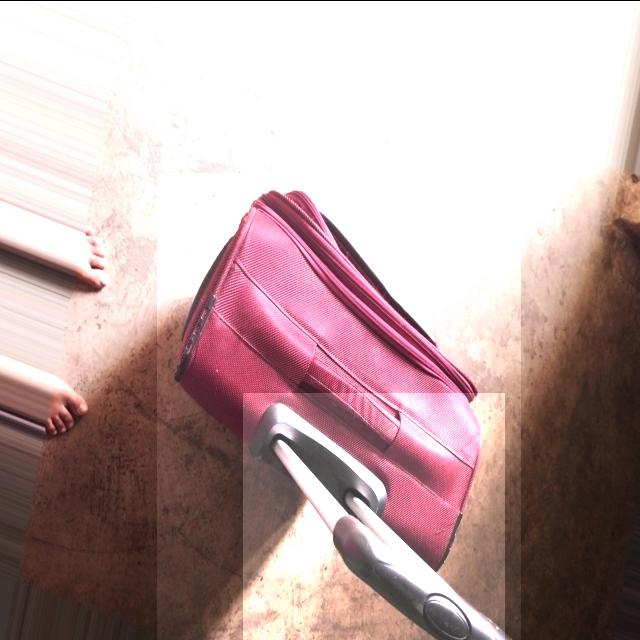Bag: (156, 174, 514, 640)
Handle: (248, 401, 510, 640)
